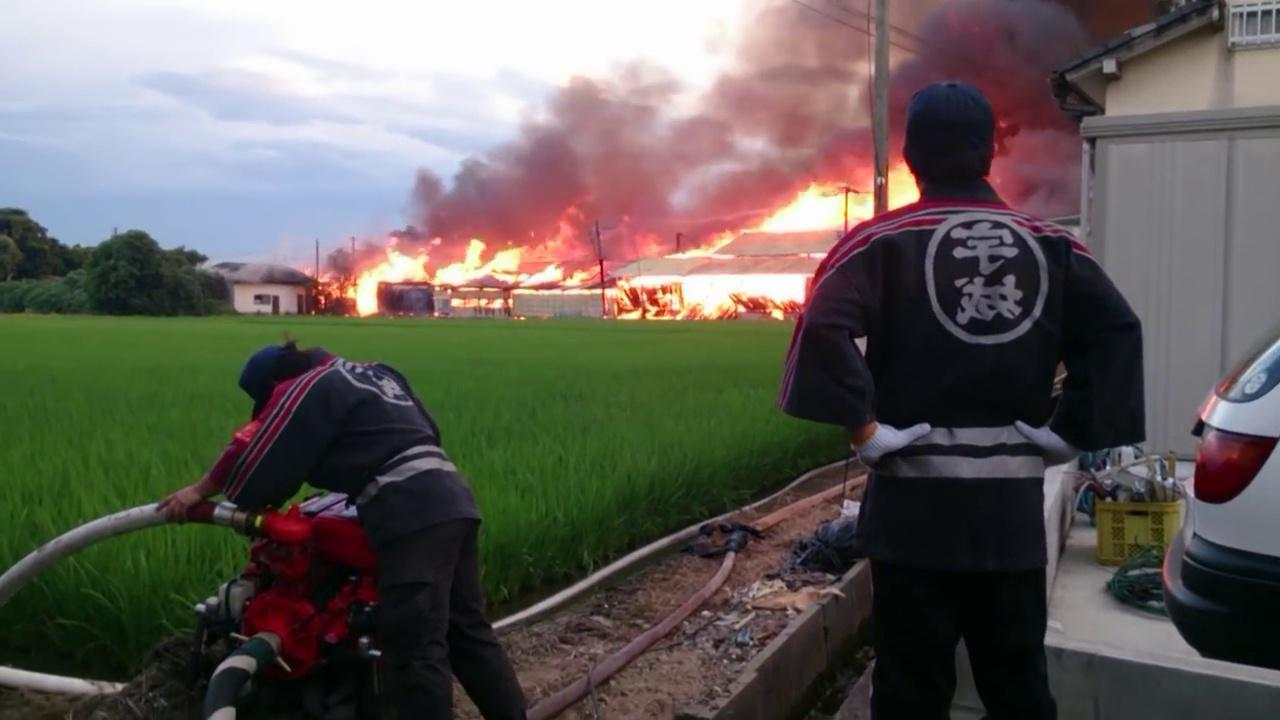Fire: (335, 244, 601, 316), (754, 169, 919, 232), (608, 273, 812, 319), (662, 230, 735, 259)
